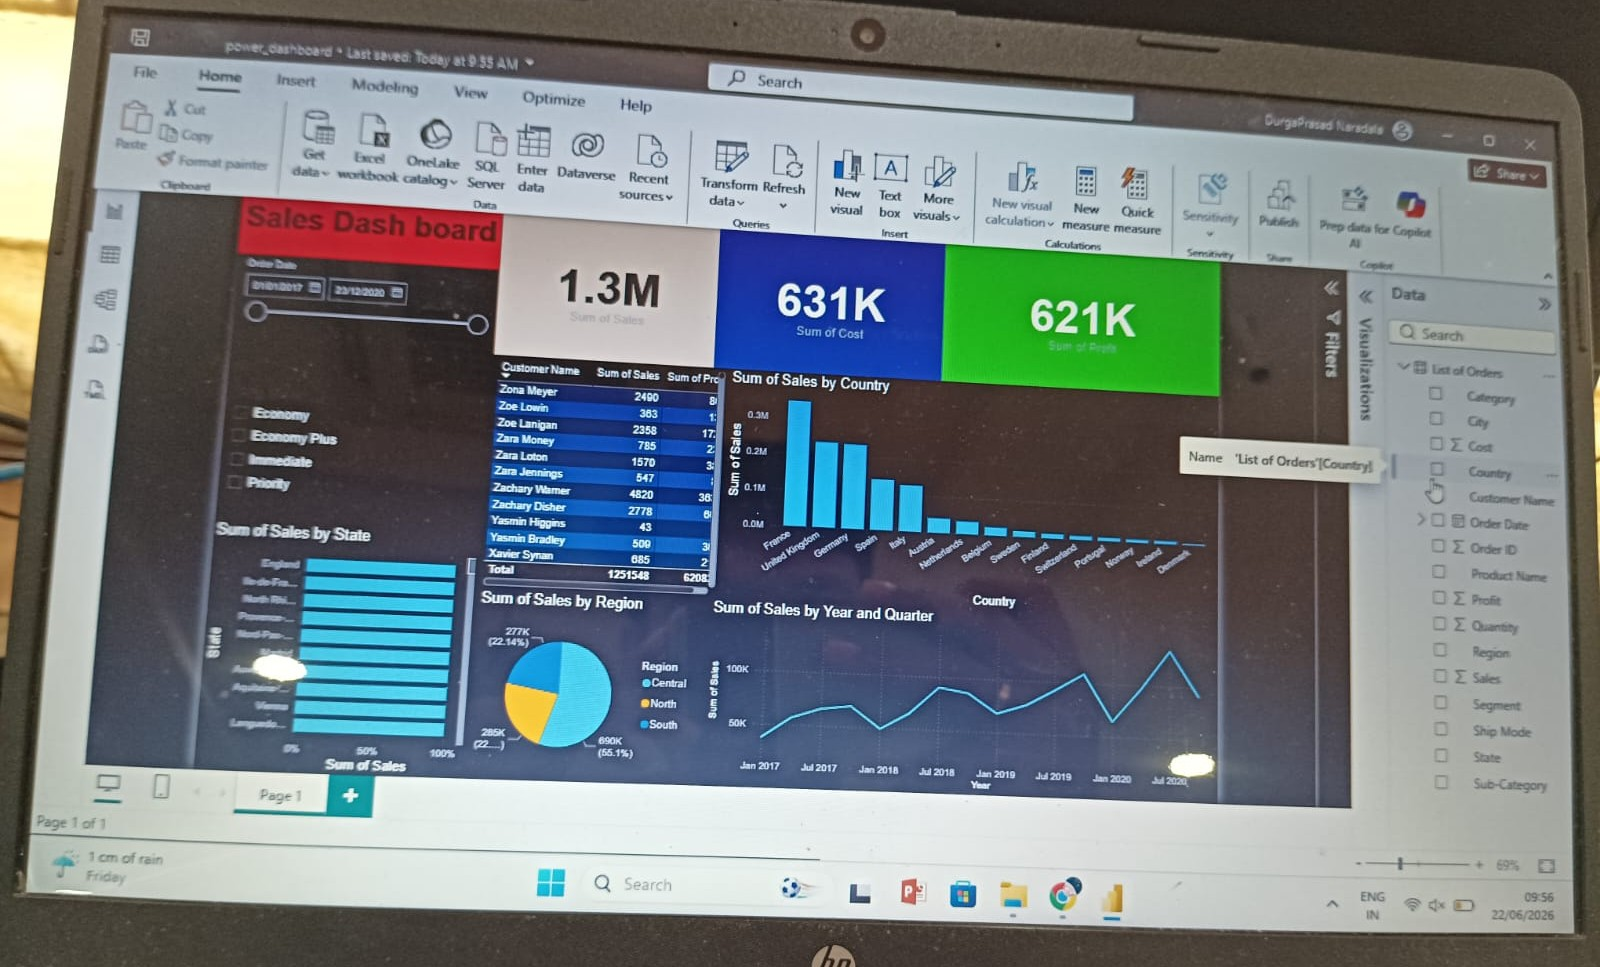

The dashboard page shown, as its layout file describes it:
{"tool":"powerbi","page":{"name":"Page 1","canvas":[1280,720],"ordinal":0},"visuals":[{"type":"card","fields":{"Values":["Sum(List of Orders.Sales)"]},"box":[324.9,0,279.5,185.9],"z":0},{"type":"card","fields":{"Values":["Sum(List of Orders.Profit)"]},"box":[904.4,0,376.1,185.9],"z":1000},{"type":"card","fields":{"Values":["Sum(List of Orders.Cost)"]},"box":[604.4,0,300,185.9],"z":2000},{"type":"tableEx","fields":{"Values":["List of Orders.Customer Name","Sum(List of Orders.Sales)","Sum(List of Orders.Profit)"]},"box":[324.9,185.9,300,300],"z":3000},{"type":"clusteredColumnChart","fields":{"Category":["List of Orders.Country"],"Y":["Sum(List of Orders.Sales)"]},"box":[624.9,185.9,655.6,300],"z":4000},{"type":"pieChart","fields":{"Category":["List of Orders.Region"],"Y":["Sum(List of Orders.Sales)"]},"box":[324.9,485.9,279.5,234.1],"z":5000},{"type":"textbox","box":[0,0,324.9,74.6],"z":6000},{"type":"slicer","fields":{"Values":["List of Orders.Ship Mode"]},"box":[0,238.5,324.9,175.6],"z":7000},{"type":"slicer","fields":{"Values":["List of Orders.Order Date"]},"box":[0,74.6,324.9,139],"z":8000},{"type":"lineChart","fields":{"Category":["List of Orders.Order Date.Variation.Date Hierarchy.Year","List of Orders.Order Date.Variation.Date Hierarchy.Quarter"],"Y":["Sum(List of Orders.Sales)"]},"box":[614.6,485.9,665.9,234.1],"z":9000},{"type":"hundredPercentStackedBarChart","fields":{"Category":["List of Orders.State"],"Y":["Sum(List of Orders.Sales)"]},"box":[0,414.1,324.9,305.9],"z":10000}]}

Visuals, with their boxes on the page's 1280x720 design canvas (x1, y1, x2, y2). These are canvas units, not pixel positions in the 1600x967 screenshot, which may show the page scaled, cropped or inside an application window:
card - Sum(List of Orders.Sales): [325,0,604,186]
card - Sum(List of Orders.Profit): [904,0,1280,186]
card - Sum(List of Orders.Cost): [604,0,904,186]
tableEx - List of Orders.Customer Name x Sum(List of Orders.Sales): [325,186,625,486]
clusteredColumnChart - List of Orders.Country x Sum(List of Orders.Sales): [625,186,1280,486]
pieChart - List of Orders.Region x Sum(List of Orders.Sales): [325,486,604,720]
textbox: [0,0,325,75]
slicer - List of Orders.Ship Mode: [0,238,325,414]
slicer - List of Orders.Order Date: [0,75,325,214]
lineChart - List of Orders.Order Date.Variation.Date Hierarchy.Year x List of Orders.Order Date.Variation.Date Hierarchy.Quarter: [615,486,1280,720]
hundredPercentStackedBarChart - List of Orders.State x Sum(List of Orders.Sales): [0,414,325,720]
